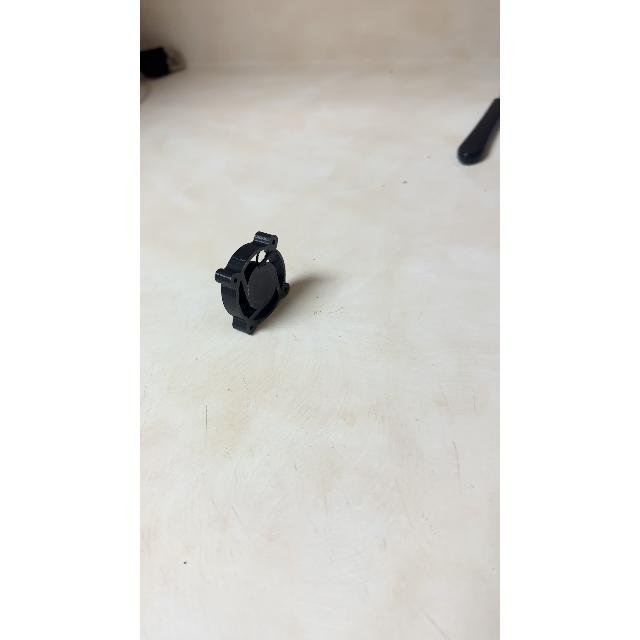Pieza4: (190, 232, 310, 346)
